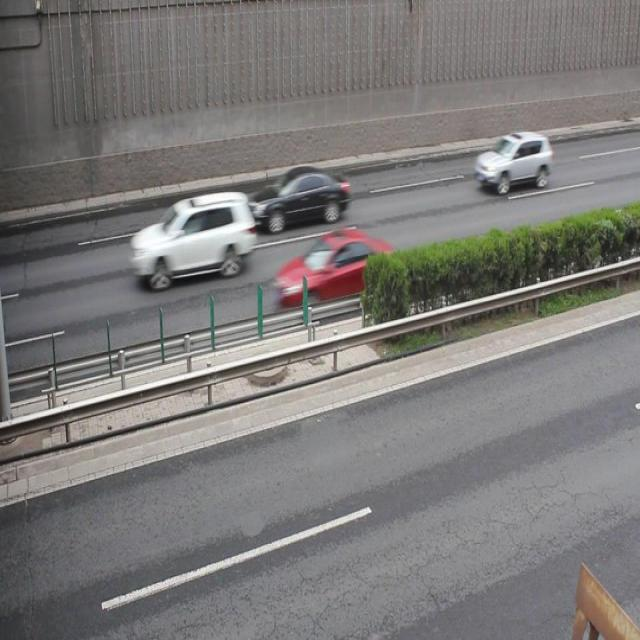car: (129, 192, 252, 290), (278, 229, 396, 309), (251, 164, 348, 231), (474, 130, 551, 192)
